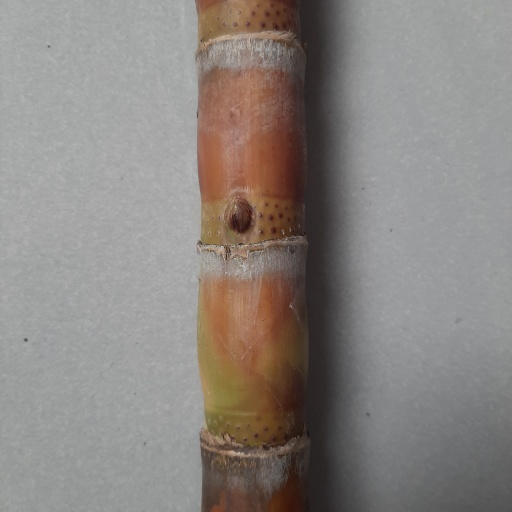Bud: (224, 197, 253, 236)
